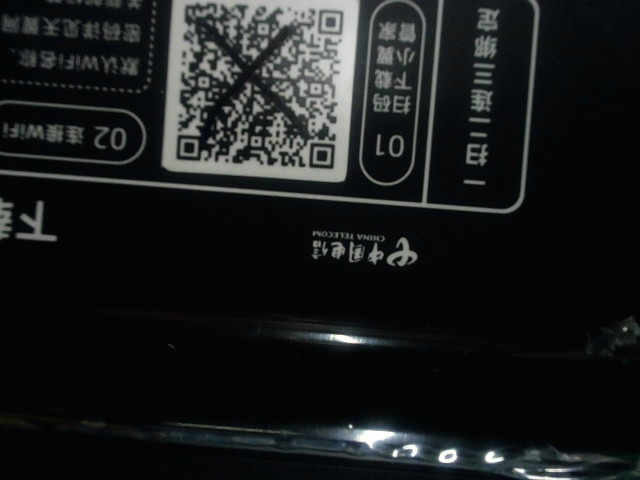AB_ChinaTelecom: (305, 222, 423, 277)
